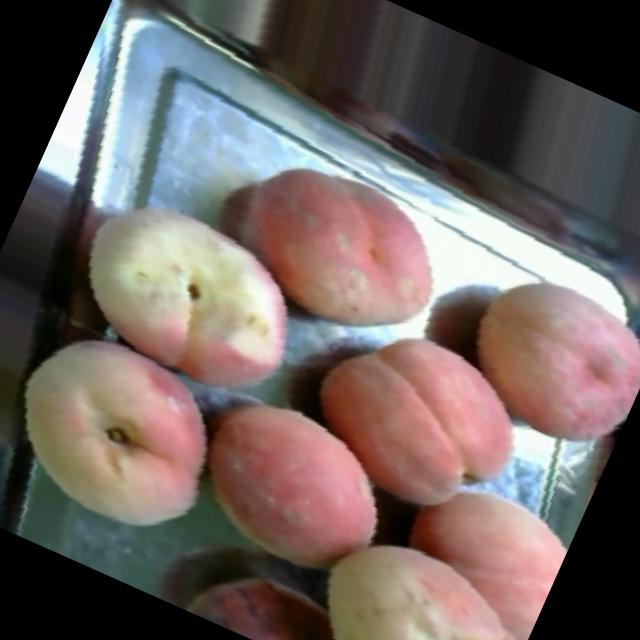Fruit: (175, 112, 483, 380), (268, 284, 561, 556), (138, 348, 430, 619), (46, 158, 348, 418), (0, 311, 261, 574), (431, 240, 640, 473), (275, 487, 554, 640), (155, 521, 392, 640)
